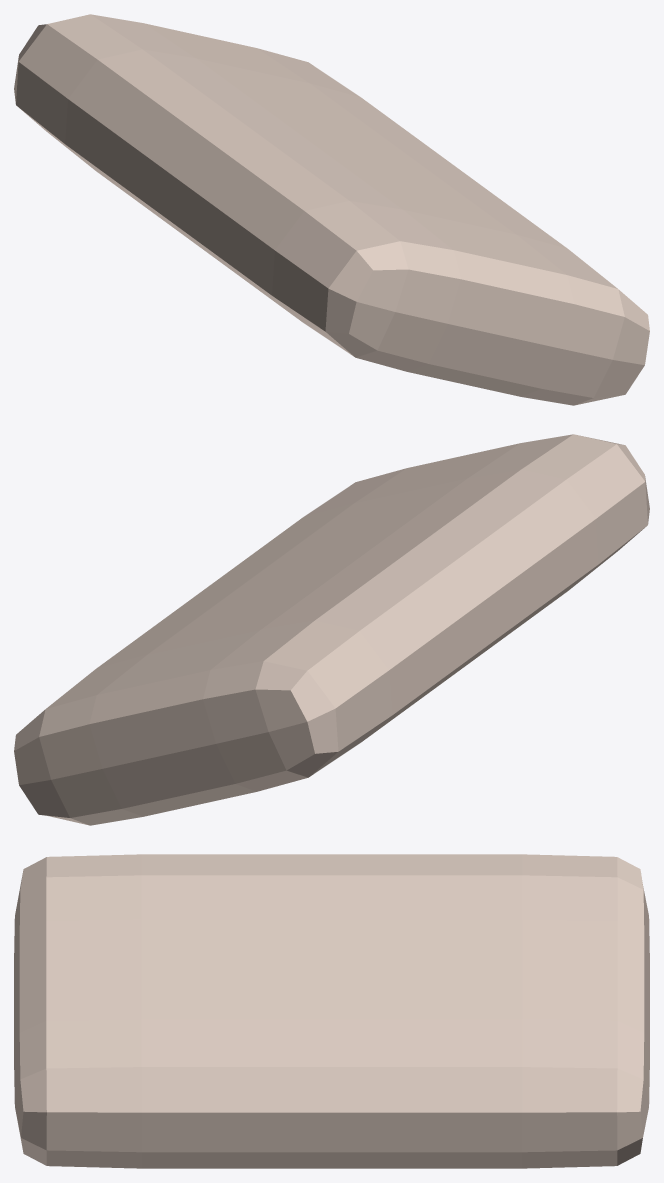
The model's file is Bantal.fbx.
3 renders of one model, top to bottom at view 1: azimuth 30°, elevation 25°; view 2: azimuth 150°, elevation 25°; view 3: azimuth 270°, elevation 25°, orthographic. The views are drawn at different scales.
Parts seen in each view (by area): view 1: Cube.001; view 2: Cube.001; view 3: Cube.001.
Part boxes in pixels (x1,y1,x2,y2): Cube.001: (14, 14, 649, 405); Cube.001: (14, 434, 649, 825); Cube.001: (14, 854, 649, 1168).
Bounding box in the file's own units: 27.18 × 16.94 × 49.7.
